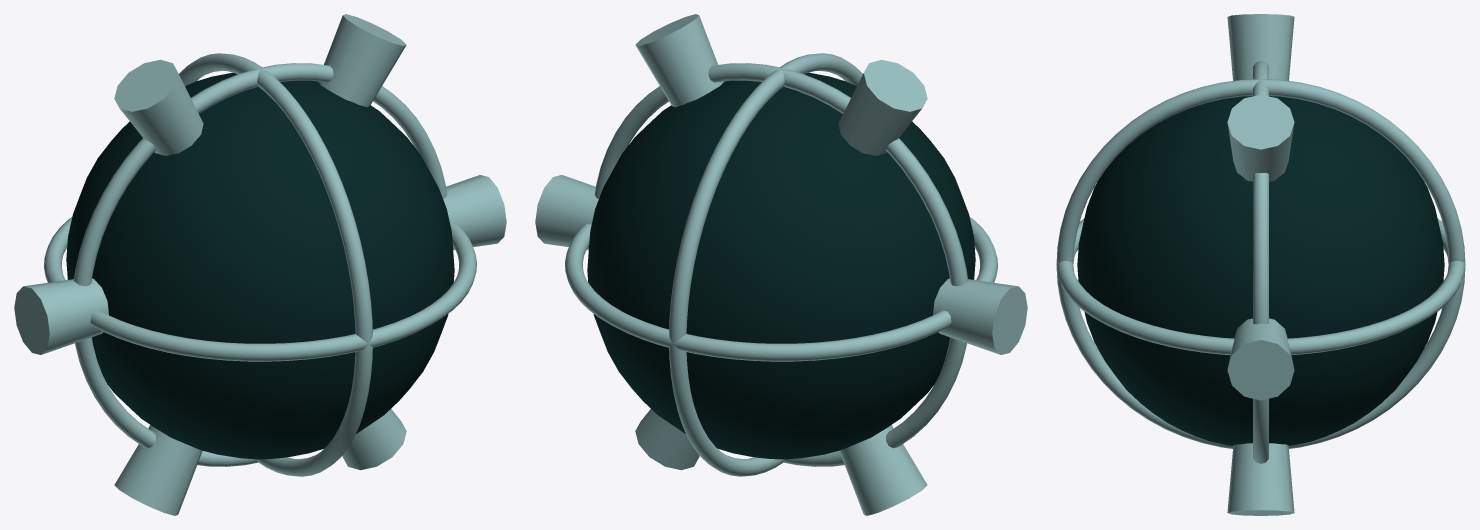
File: company-processor.glb
3 views of the same model, side by side, from view 1: azimuth 30°, elevation 25°; view 2: azimuth 150°, elevation 25°; view 3: azimuth 270°, elevation 25° (orthographic). The views are drawn at different scales.
Size of the model in its own units: 14.1 by 13.16 by 11.58.
